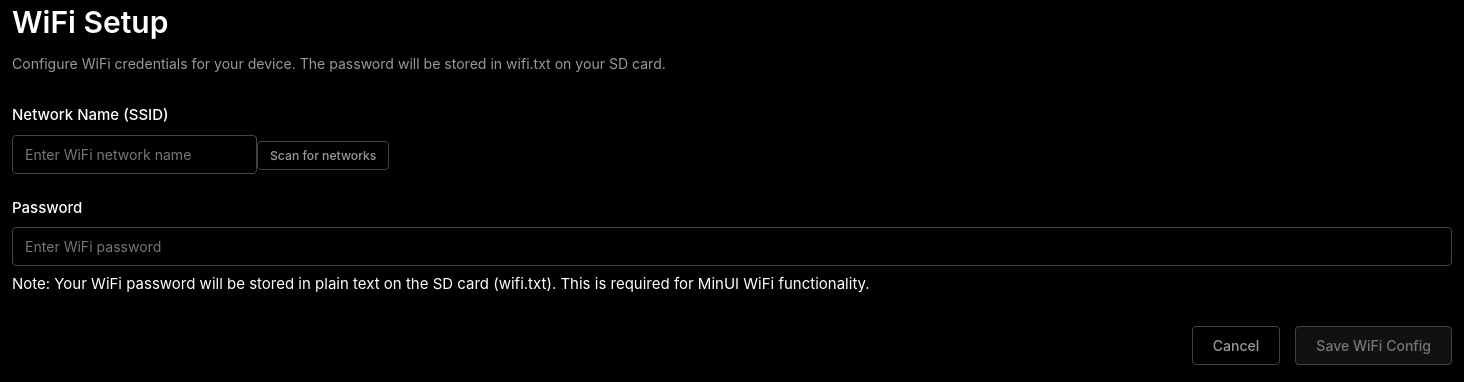
Test case: WifiWizard › disables save button when SSID is empty
expect the password field labelled "Password" is shown: met, box [12,227,1452,266]
expect the button "Save WiFi Config" is disabled: met, box [1295,326,1452,365]
Type "MyNetwork" into the field with placeholder "Enter WiFi network name" at (134, 155), box [12,135,257,174]
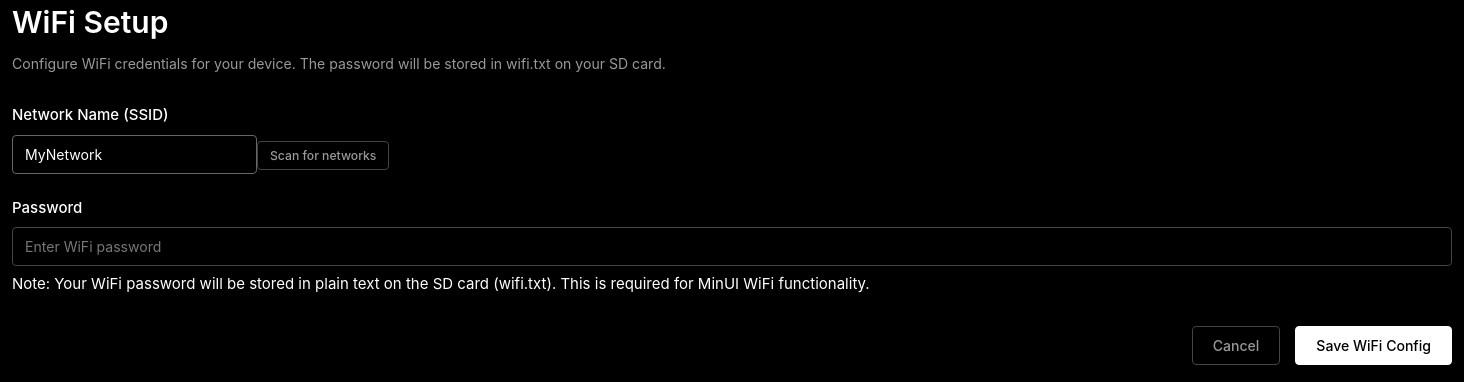
expect the button "Save WiFi Config" is enabled: met, box [1295,326,1452,365]
